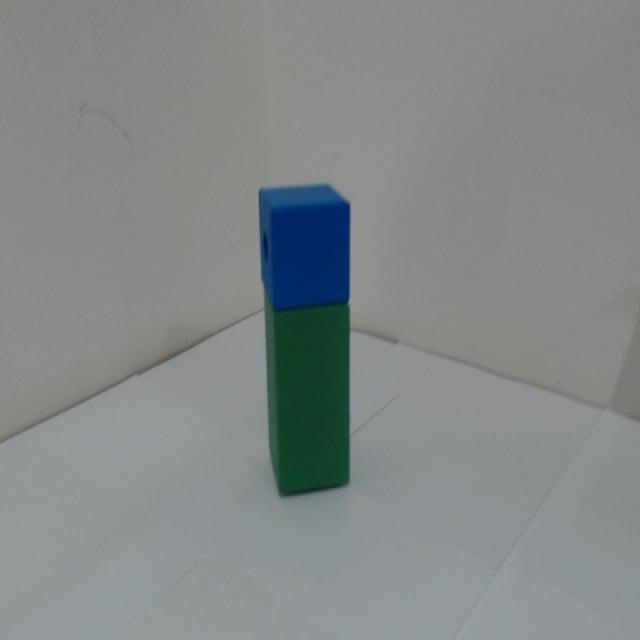cube: (246, 158, 379, 315)
